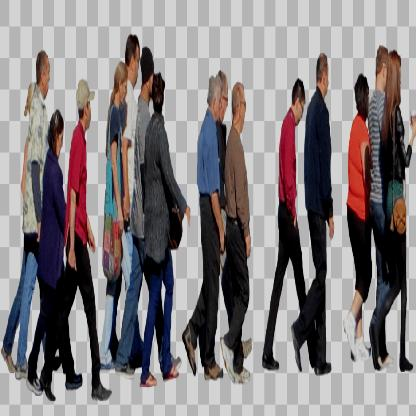jean: (42, 82, 109, 416), (28, 95, 86, 413), (262, 70, 316, 378), (289, 38, 338, 374), (143, 57, 190, 397), (116, 33, 158, 382), (180, 74, 228, 378), (379, 39, 416, 376), (218, 67, 254, 386), (100, 56, 134, 390), (23, 50, 50, 376), (5, 72, 32, 375), (346, 66, 371, 364), (367, 36, 387, 368), (123, 22, 140, 235), (212, 55, 227, 263)
